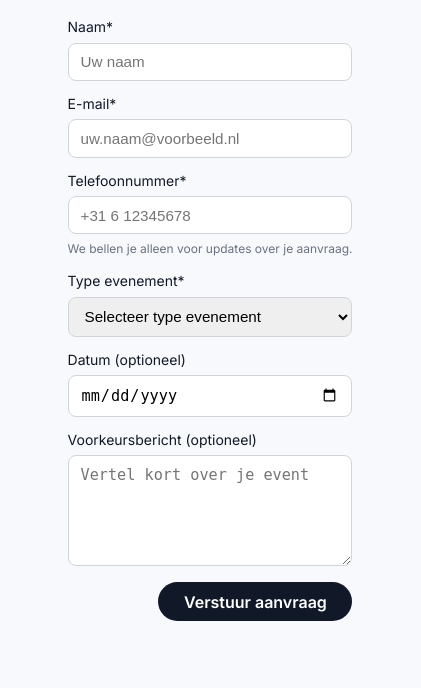
Test case: QuickBookingForm › shows validation error when required fields are missing
Step 1. Click the button "Verstuur aanvraag" → (255,602), box [158,582,352,622]
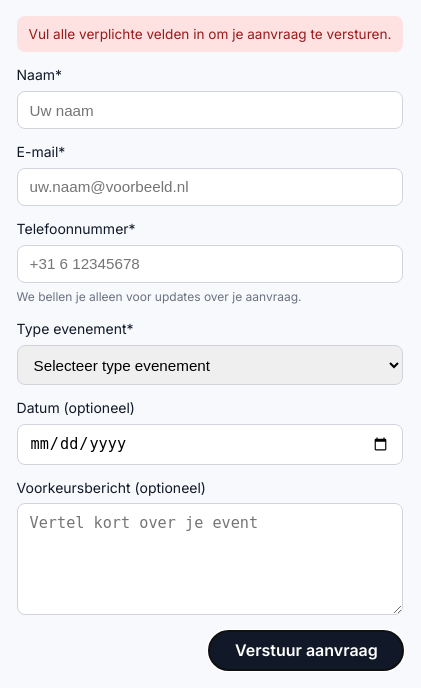
Now the text "Vul alle verplichte velden in om je aanvraag te versturen." is shown, box [17,16,404,52]
